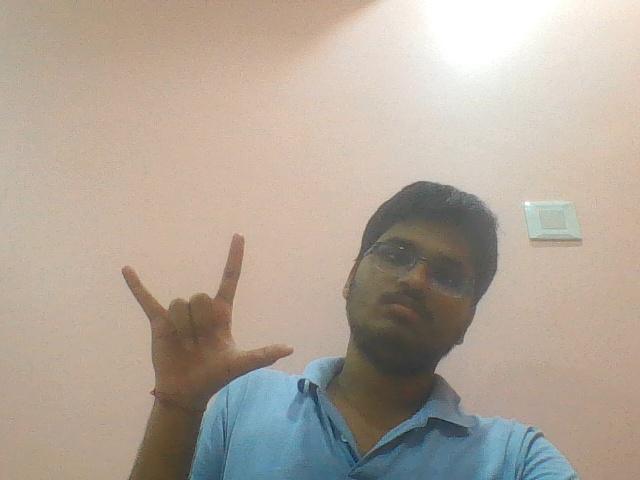iloveyou: (108, 225, 302, 403)
